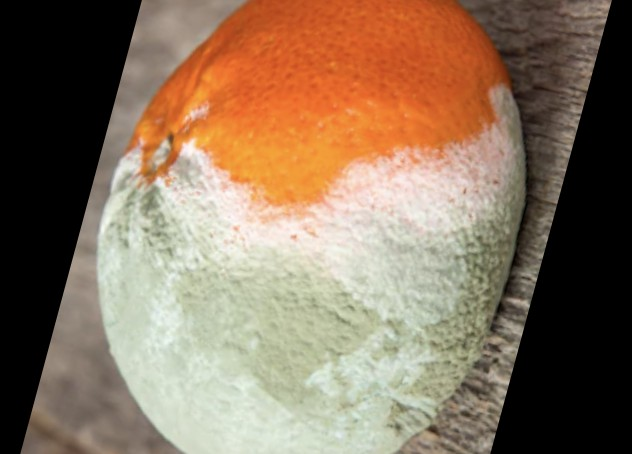rotten_orange: (95, 2, 522, 454)
